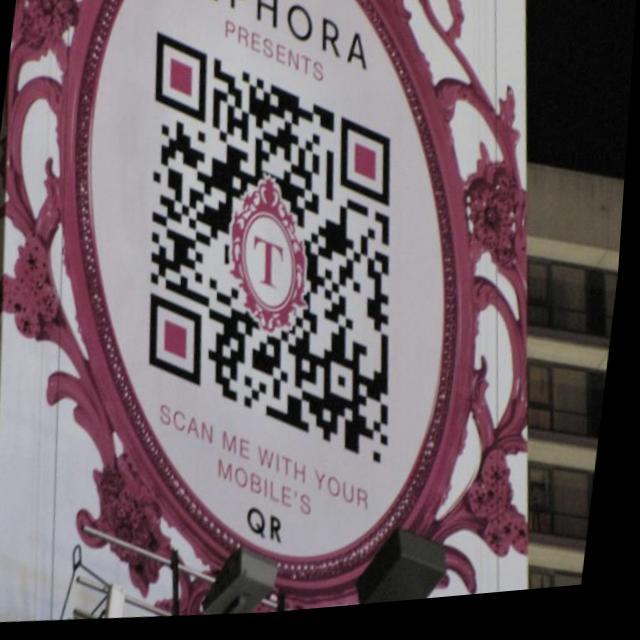qrcode: (112, 16, 443, 493)
